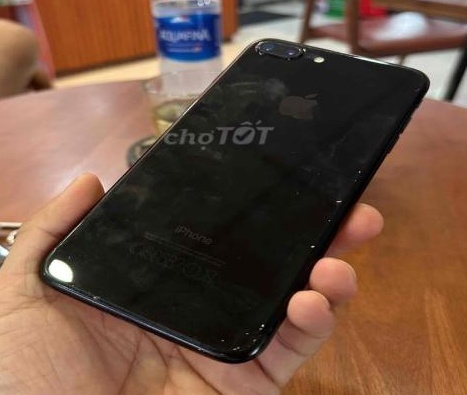scratch: (37, 255, 116, 314), (194, 314, 275, 361), (317, 160, 378, 211), (284, 210, 342, 259), (250, 44, 316, 70)
